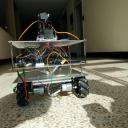cart: (8, 40, 90, 106)
